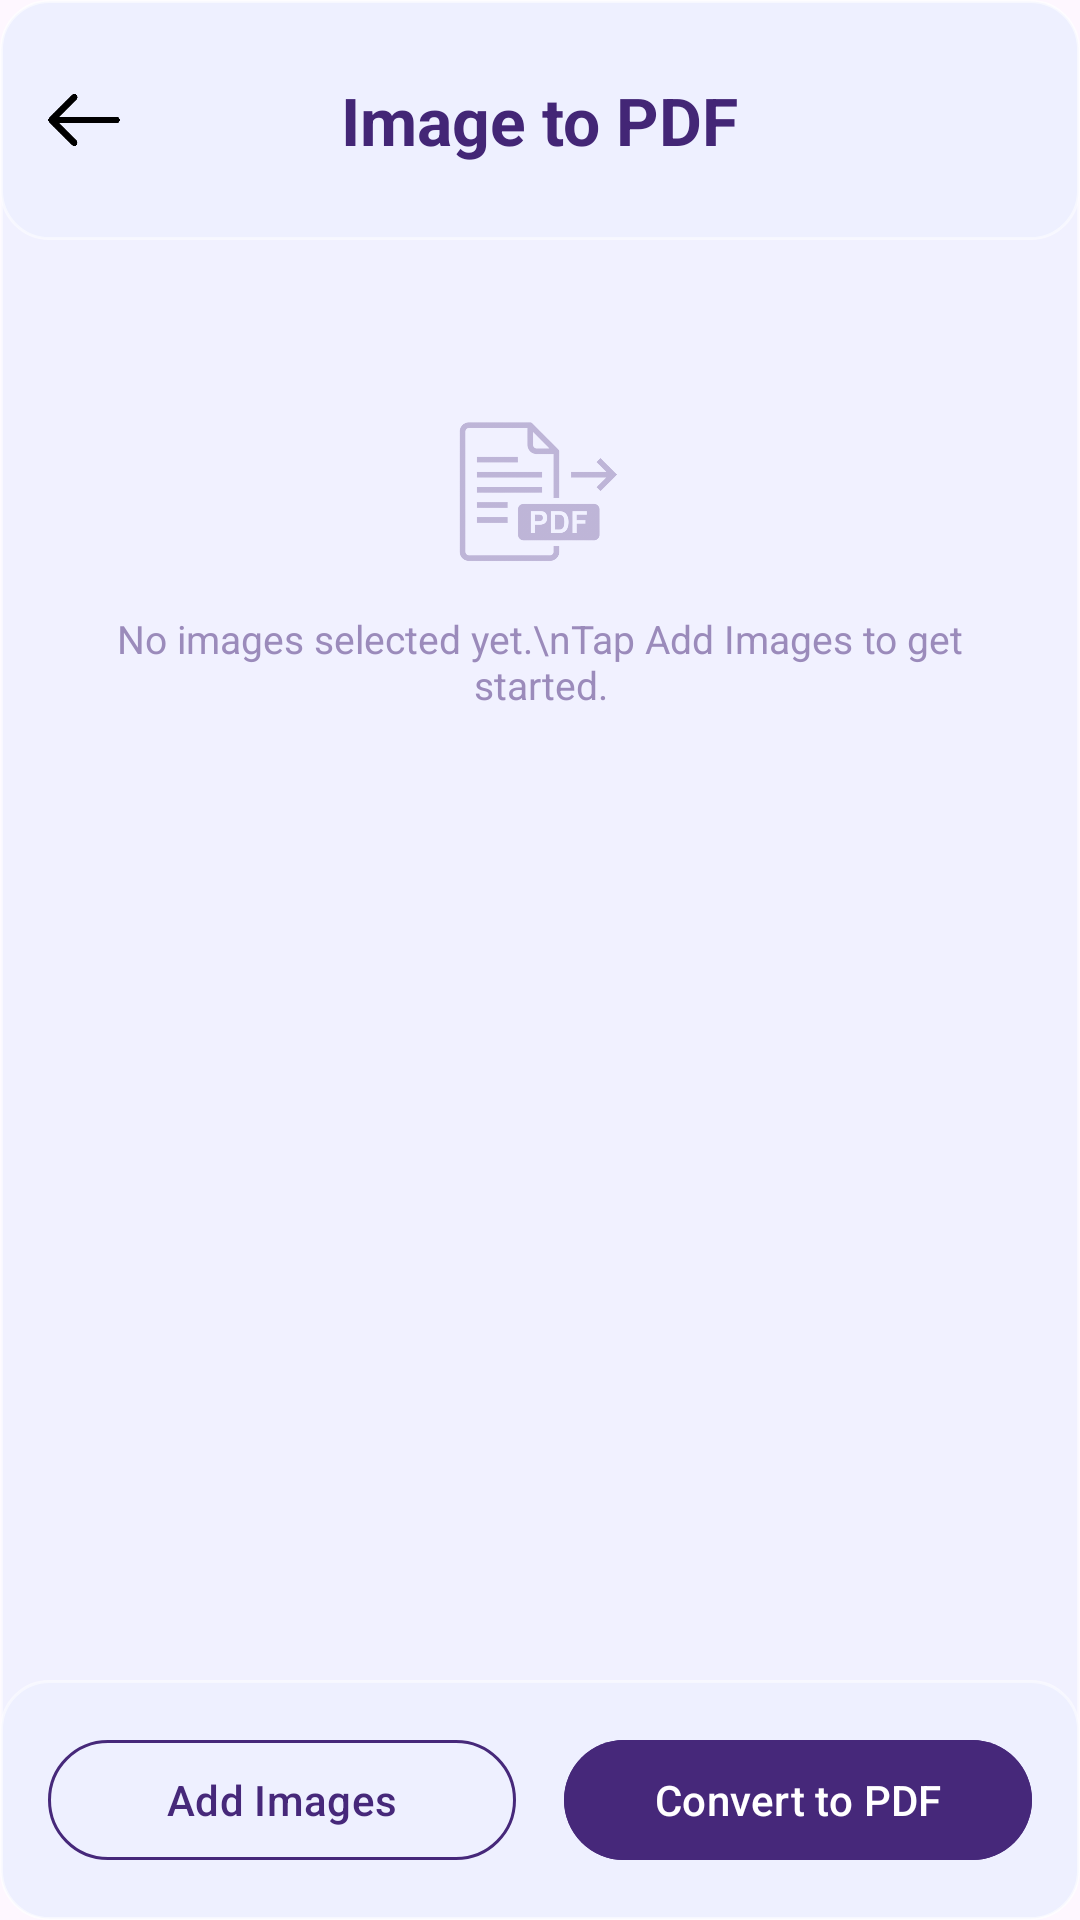

Icons on this 1080*1920 Android screen, each with its box as (x1, y1, x2, y2):
Back: (48, 94, 120, 146)
